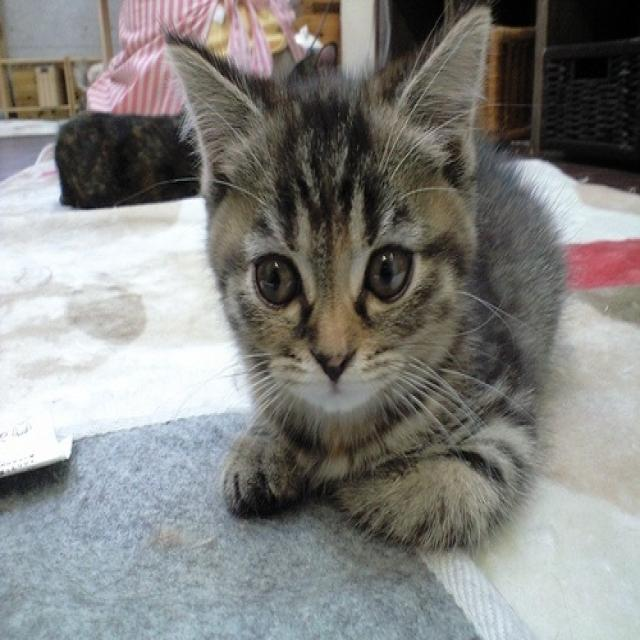cat: (168, 3, 564, 550)
